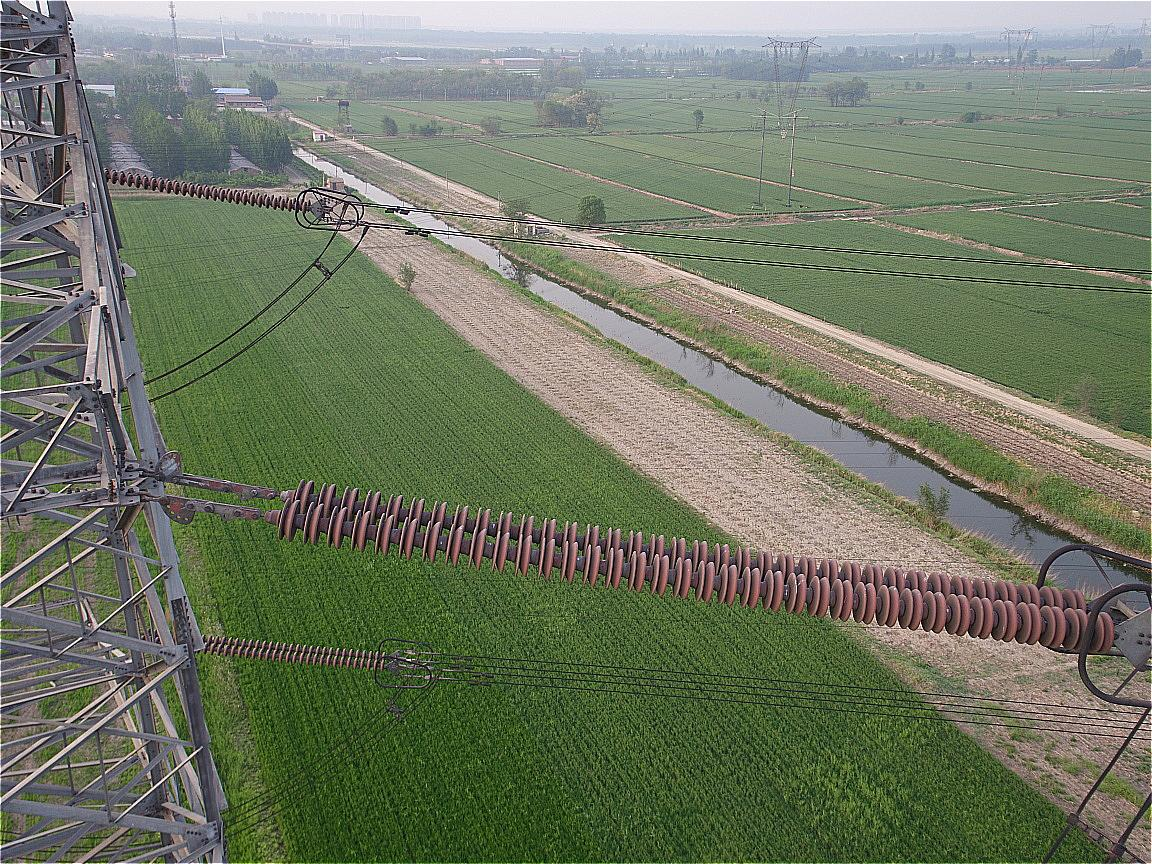insultor1: (100, 163, 315, 224), (203, 632, 398, 676)
insultor2: (269, 457, 1134, 667)
